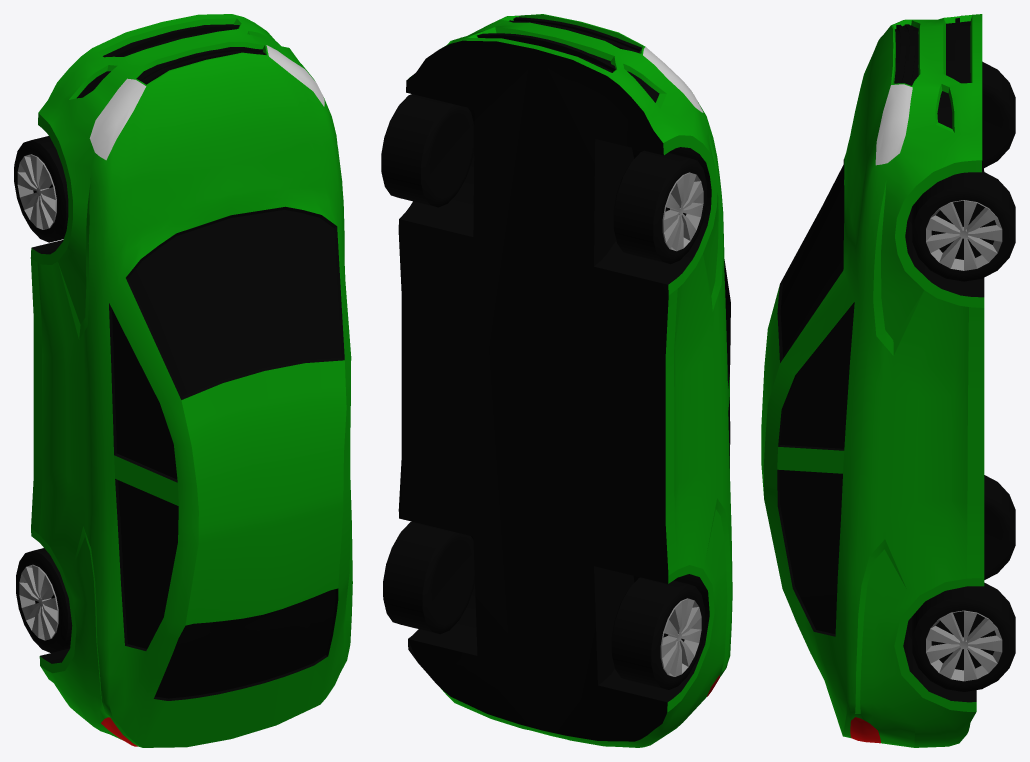
The model's file is car.obj.
The picture shows the model from 3 angles, left to right: view 1: azimuth 30°, elevation 25°; view 2: azimuth 150°, elevation 25°; view 3: azimuth 270°, elevation 25°; orthographic projection. The views are drawn at different scales.
Visible parts, largest first — view 1: Vesta, FL_Wheel, BL_Wheel; view 2: Vesta, FL_Wheel, BL_Wheel, FR_Wheel, BR_Wheel; view 3: Vesta, FR_Wheel, BR_Wheel, FL_Wheel, BL_Wheel.
Boxes of the visible parts, x1,y1,x2,y2 form: Vesta: [30, 14, 352, 747]; FL_Wheel: [14, 136, 68, 242]; BL_Wheel: [16, 548, 72, 652]; Vesta: [398, 14, 732, 747]; FL_Wheel: [613, 150, 706, 264]; BL_Wheel: [611, 577, 705, 689]; FR_Wheel: [381, 94, 474, 207]; BR_Wheel: [383, 521, 474, 634]; Vesta: [761, 14, 984, 747]; FR_Wheel: [912, 171, 1015, 281]; BR_Wheel: [912, 582, 1015, 691]; FL_Wheel: [982, 61, 1015, 167]; BL_Wheel: [984, 475, 1015, 579].
Size of the model in its own units: 1.83 by 4.39 by 1.5.
